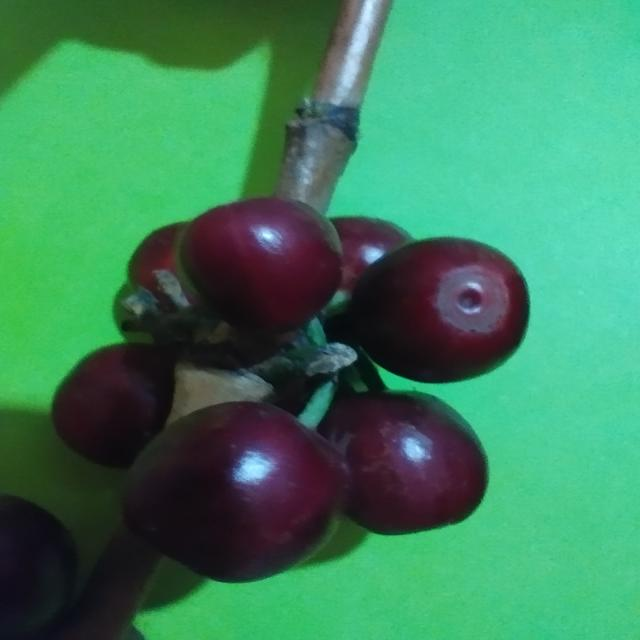Sano: (124, 402, 343, 584), (329, 238, 532, 385), (174, 198, 345, 339), (319, 394, 487, 536)
